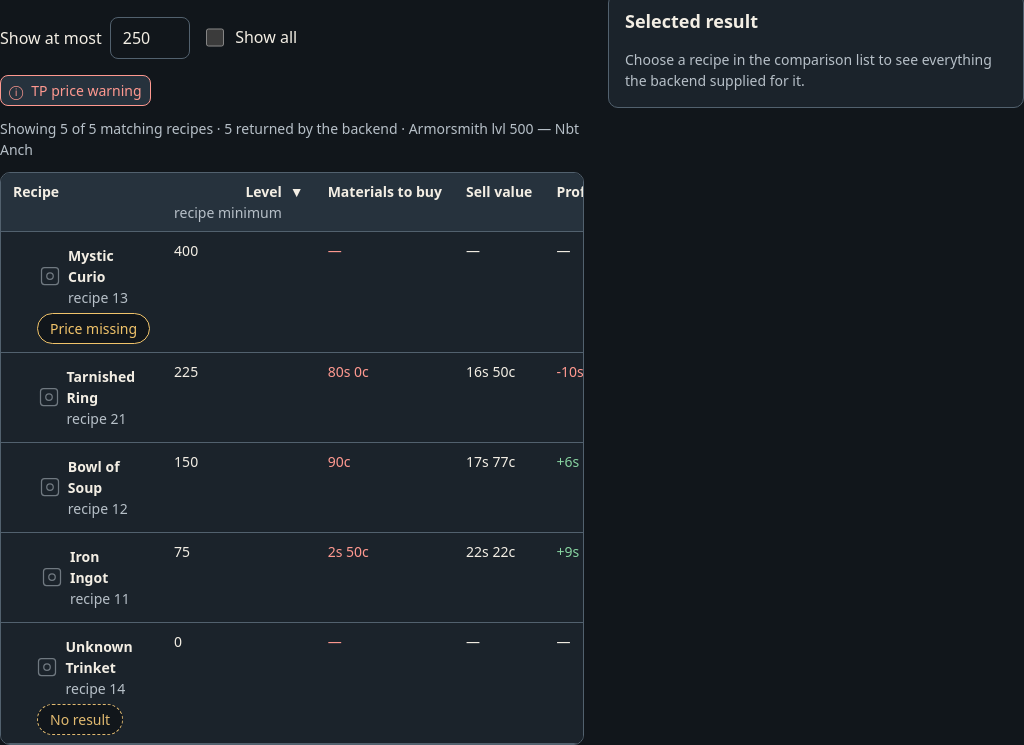
CraftingDiscoveryScreen › showsALossWithItsSignAndBothSuppliedMaterialListsUnderTheirOwnBases
(page scrolled)
Click the button with test id "discovery-select-row" showing "Tarnished Ring recipe 21". click: coordinates (82, 397)
box: [13,360,150,434]
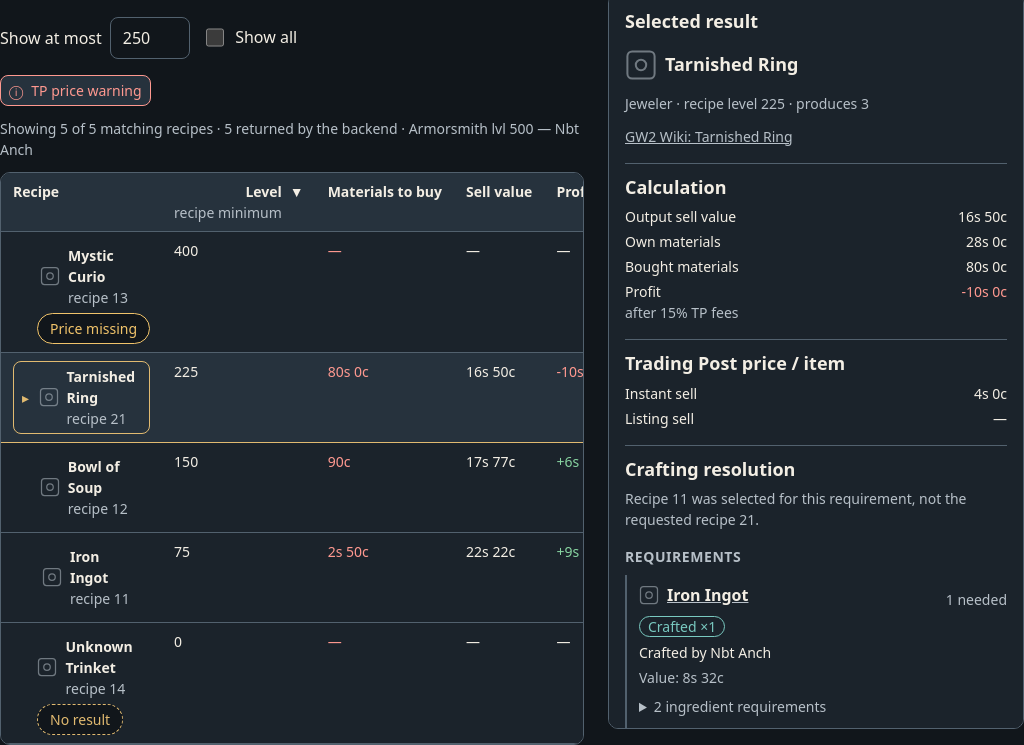
Result: the text with test id "discovery-detail-profit" reads "-10s 0c" at [961,282,1007,301]
